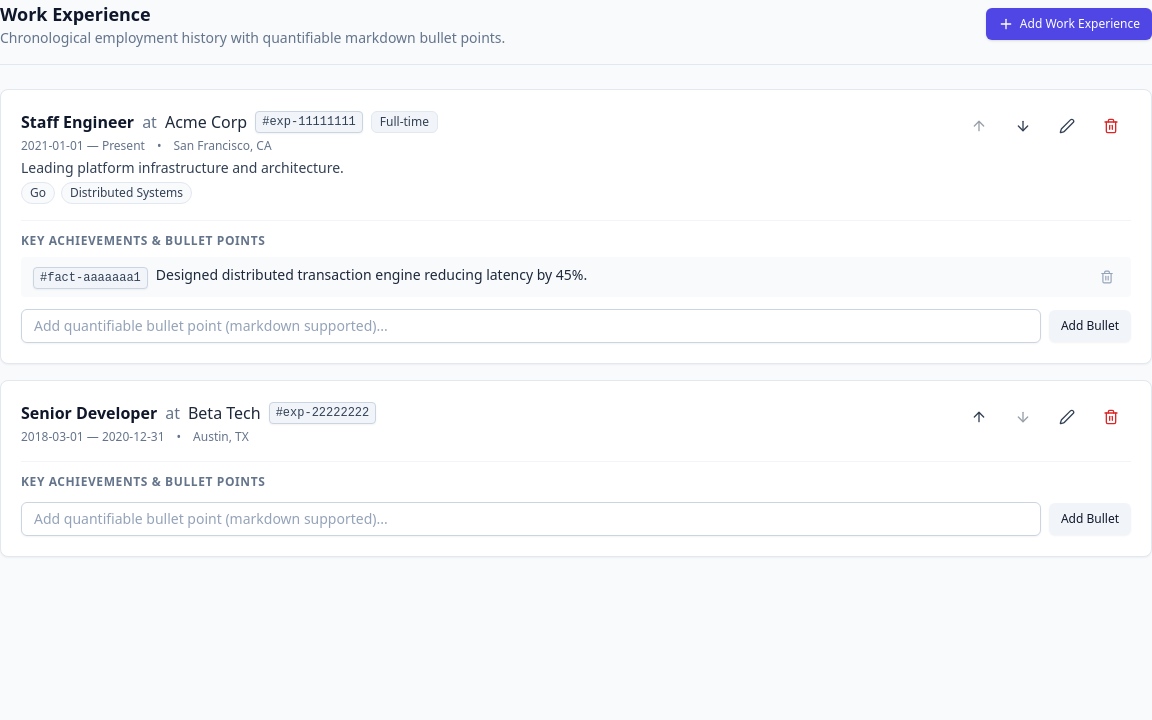
Test: ExperienceList › opens modal dialog to add new experience
Click the button "Add Work Experience". click: (1069, 24)
box: [986,8,1151,40]
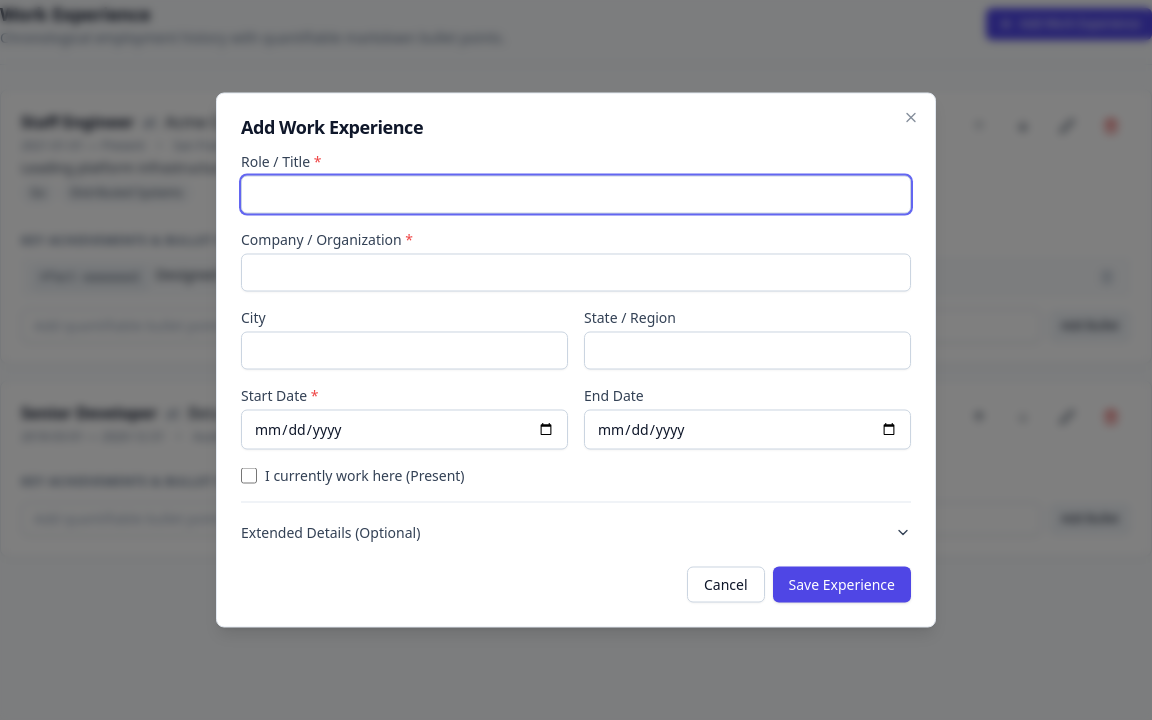
Expected: the heading "Add Work Experience" is shown, [241,114,423,138]
